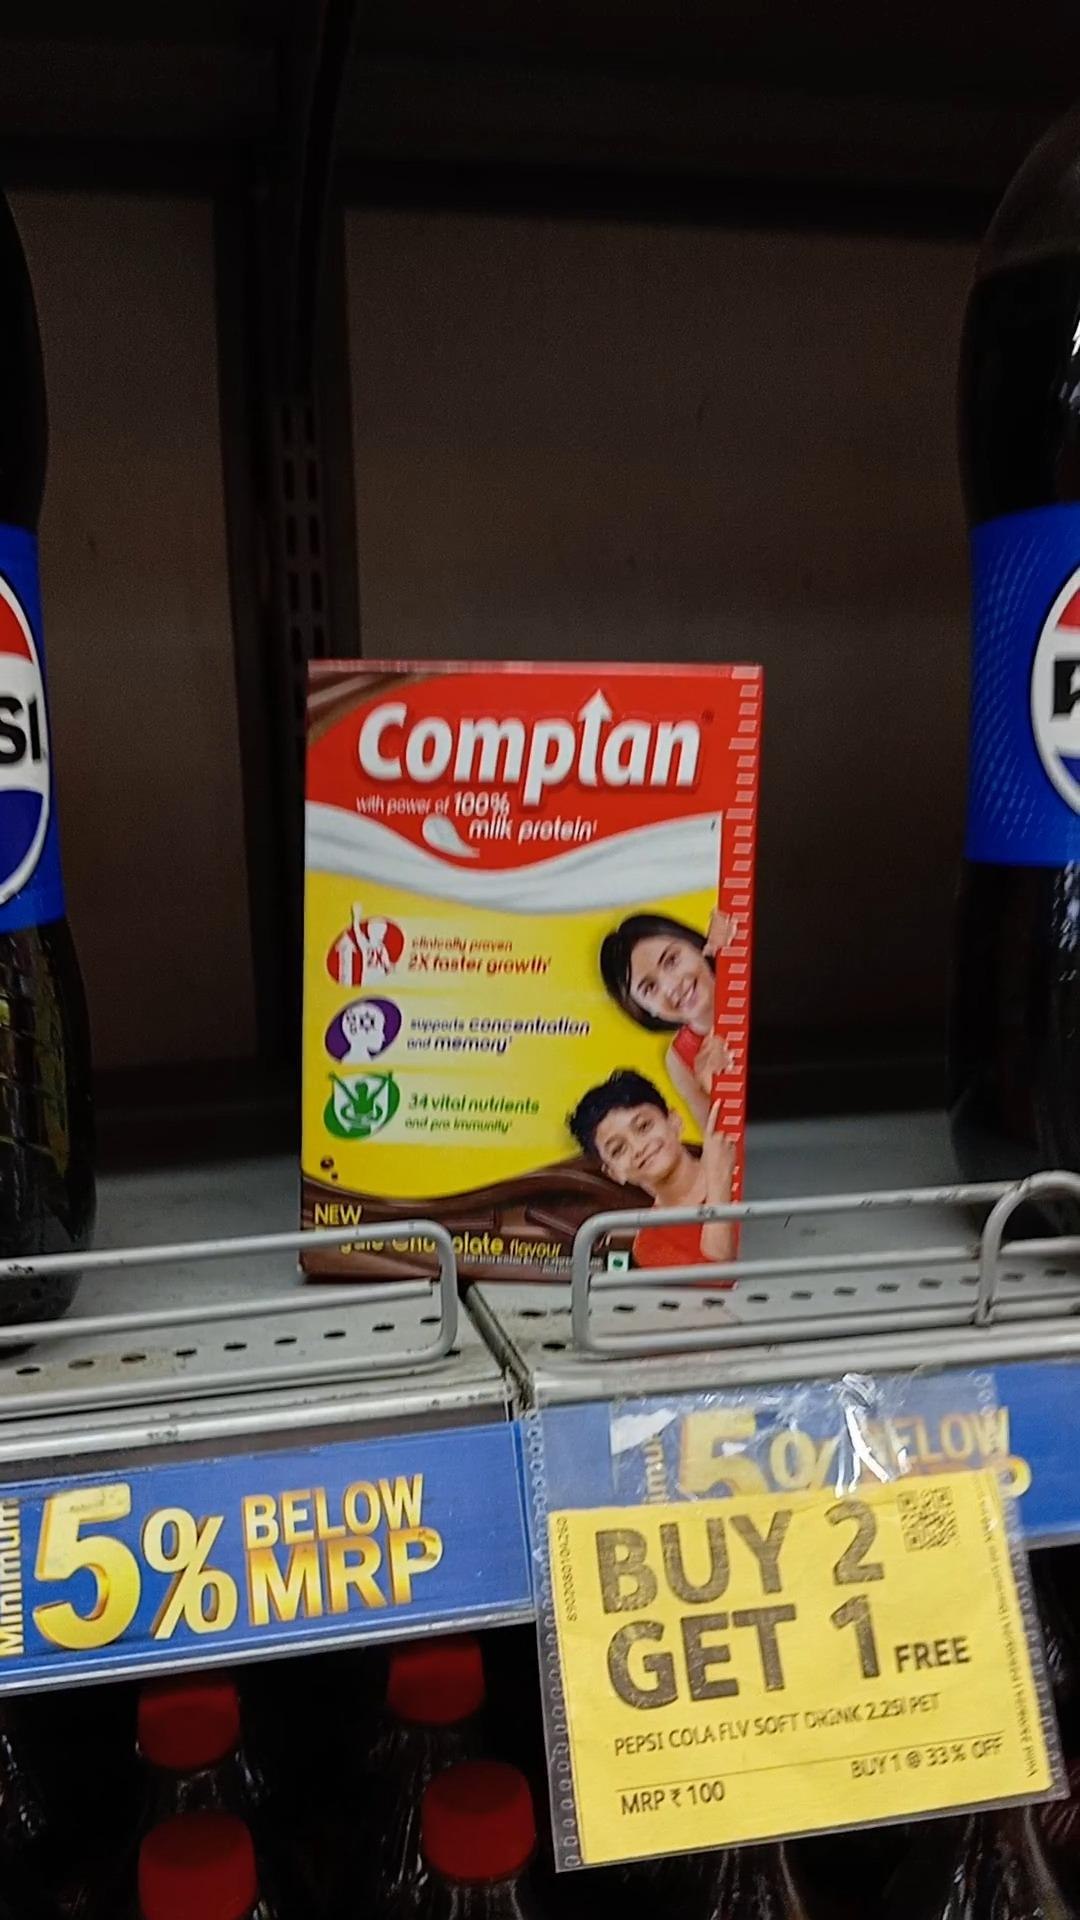COMPLAN_CHOCOLATE_200_GMS_PACK: (305, 680, 731, 1280)
